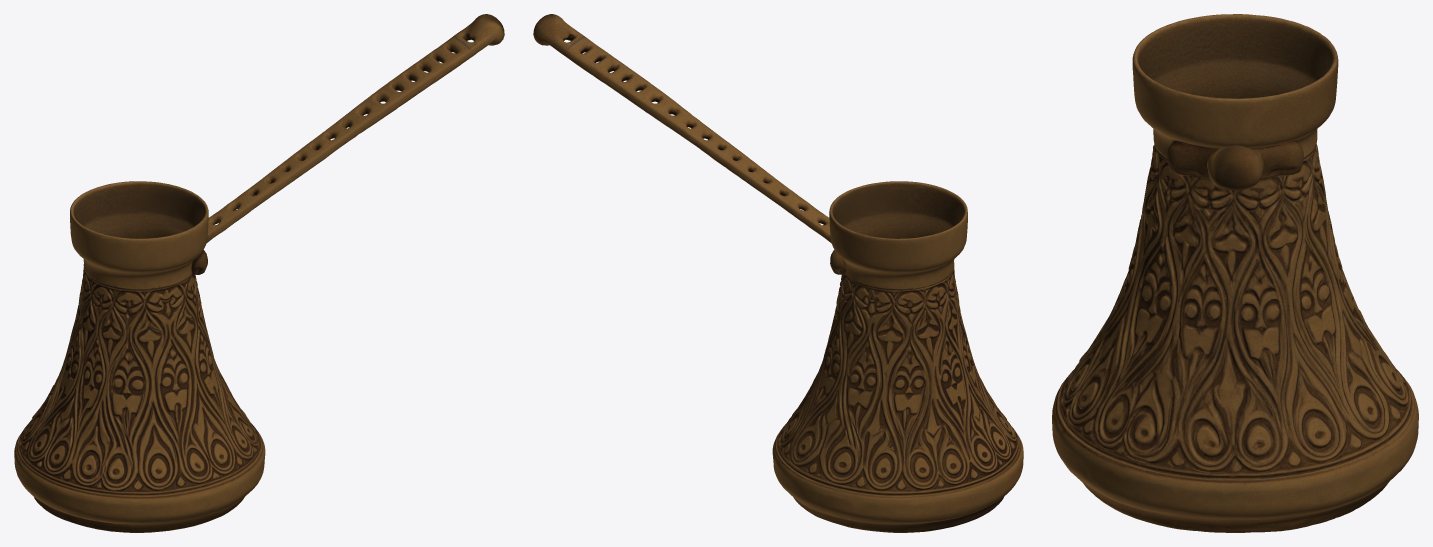
File: dzezva.glb
3 renders of one model, left to right at view 1: azimuth 30°, elevation 25°; view 2: azimuth 150°, elevation 25°; view 3: azimuth 270°, elevation 25°, orthographic. The views are drawn at different scales.
Bounding box in the file's own units: 1.9 × 1.5 × 0.8721.
1 material, 1 textured.
